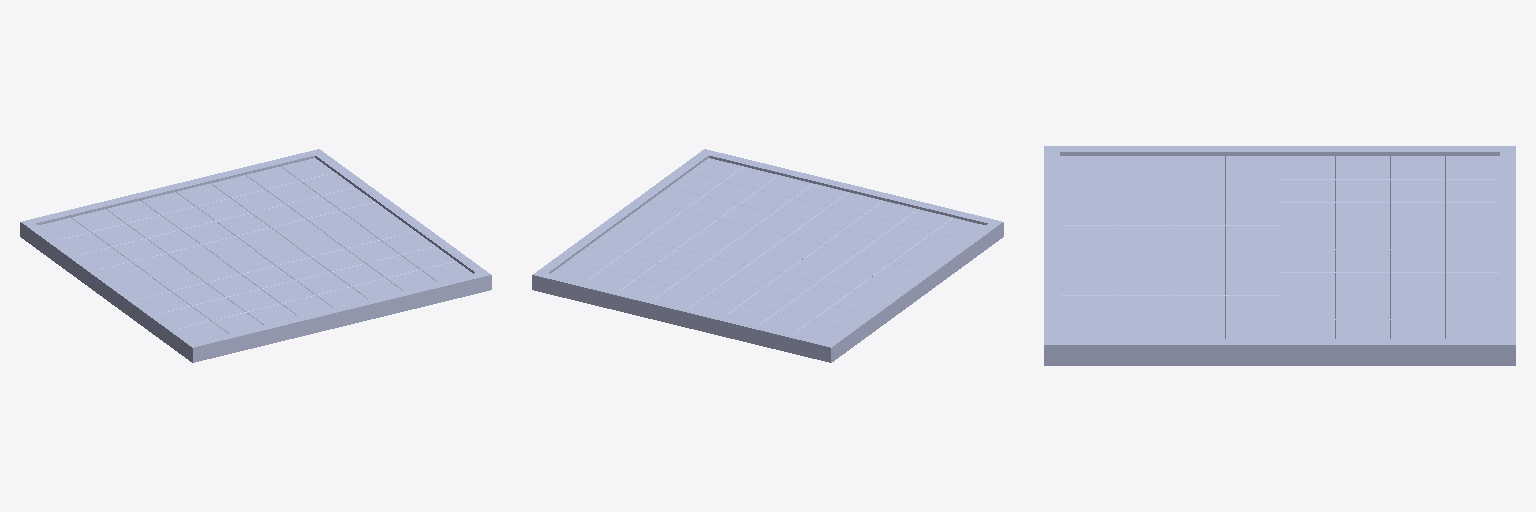
The robot description file, URDF, robot "chessboard":
<?xml version="1.0" encoding="utf-8"?>
<robot name="chessboard">
 
  <!-- 添加世界坐标系链接 -->
  <link name="world"/>
  
  <!-- 将 base_link 固定到 world -->
  <joint name="fixed_to_world" type="fixed">
    <parent link="world"/>
    <child link="base_link"/>
    <origin xyz="0 0 0.02" rpy="1.5708 0 0"/> 
  </joint>

  <link name="base_link">
    <inertial>
      <origin
        xyz="2.59991680962024E-16 -0.00180057250759344 9.22159485035791E-16"
        rpy="0 0 0" />
      <mass
        value="0.5397745" />
      <inertia
        ixx="0.0010104424615518"
        ixy="-5.68823672919161E-21"
        ixz="-2.83870443202449E-12"
        iyy="0.00503082062773216"
        iyz="-4.85459085409541E-08"
        izz="0.00403664638877451" />
    </inertial>
    <visual>
      <origin
        xyz="0 0 0"
        rpy="0 0 0" />
      <geometry>
        <mesh
          filename="package://board_new/meshes/base_link.STL" />
      </geometry>
      <material
        name="">
        <color
          rgba="0.792156862745098 0.819607843137255 0.933333333333333 1" />
      </material>
    </visual>
    <collision>
      <origin
        xyz="0 0 0"
        rpy="0 0 0" />
      <geometry>
        <mesh
          filename="package://board_new/meshes/base_link.STL" />
  </geometry>
</collision>
</link>
</robot>

--- What the picture shows (computed from the rendered views, not written in the file) ---
3 views of the same robot in one strip: view 1: azimuth 30°, elevation 25°; view 2: azimuth 150°, elevation 25°; view 3: azimuth 270°, elevation 25° (orthographic).
Model chessboard with 2 links and 1 joints (1 fixed), rooted at world, posed every joint at zero.
Links seen in each view (by area): view 1: base_link; view 2: base_link; view 3: base_link.
Link boxes in pixels (x1,y1,x2,y2): base_link: (20, 149, 491, 362); base_link: (532, 149, 1003, 362); base_link: (1044, 146, 1515, 365).
Size in the robot's own frame: 0.367 by 0.366 by 0.018 metres.
Meshes: 1 distinct files referenced, 1 mesh visuals loaded (1 binary STL).